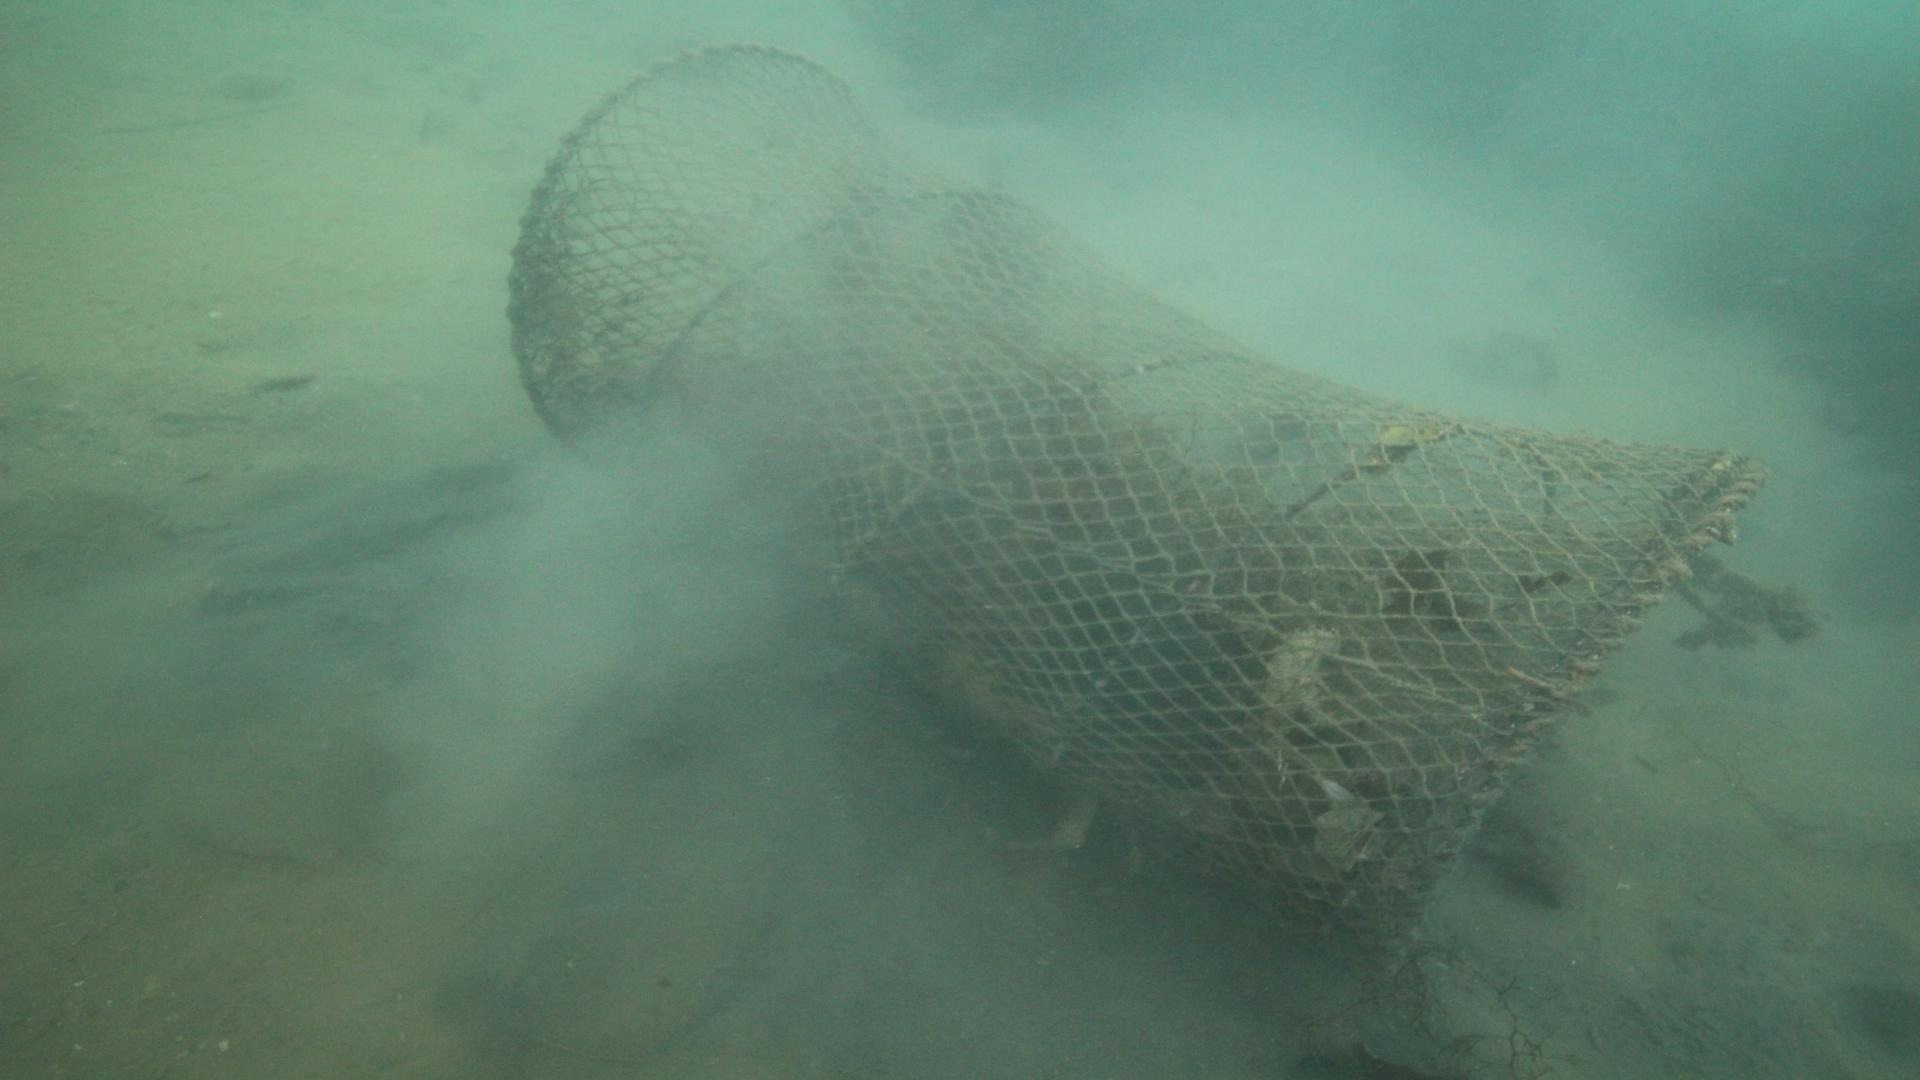spring fish trap: (505, 41, 1766, 985)
